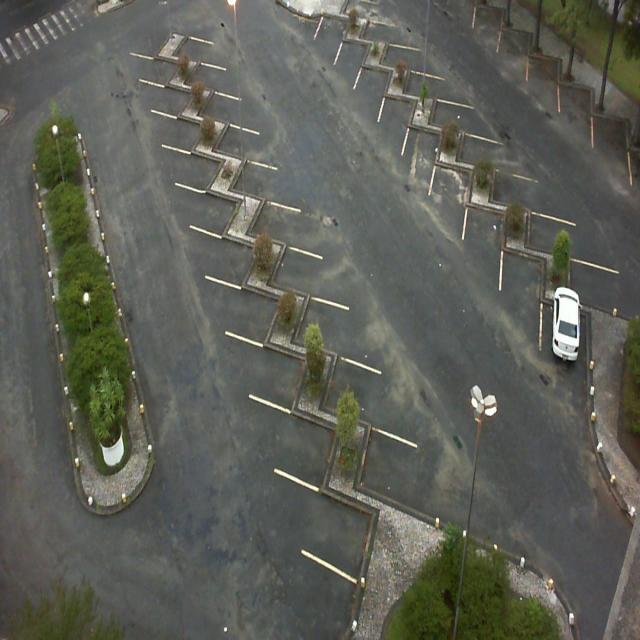car: (550, 284, 581, 368)
